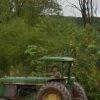Tractor: (7, 43, 100, 100)
